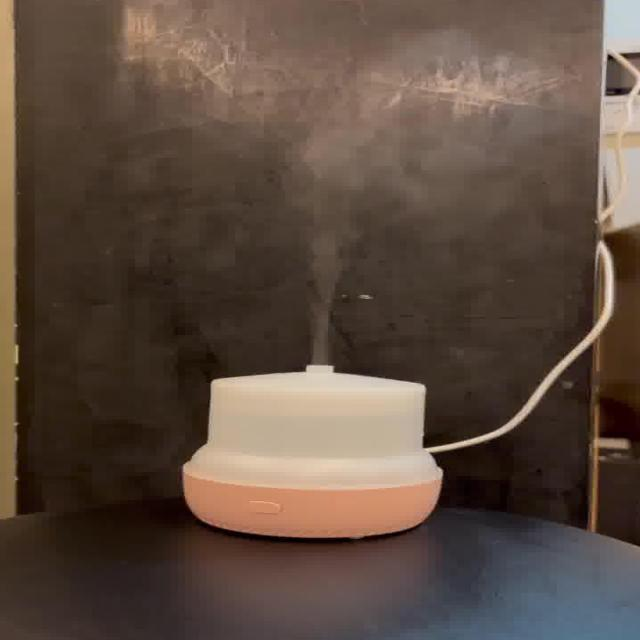fire: (294, 85, 441, 360)
